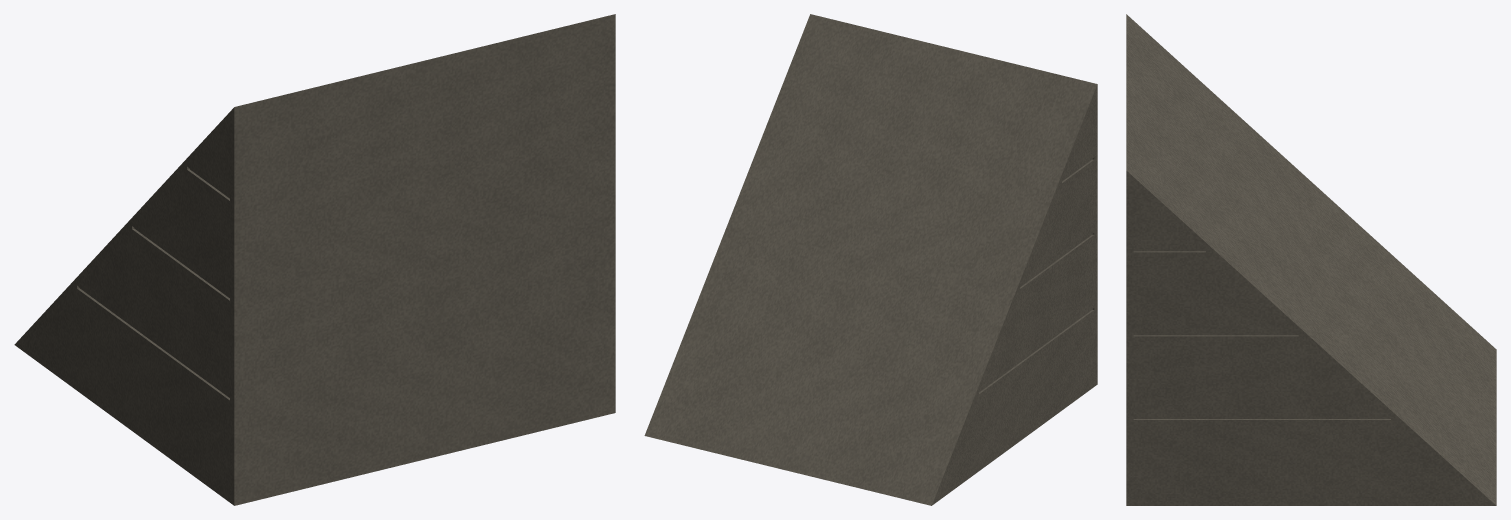
Rendered from roof_wedge.glb.
The picture shows the model from 3 angles, left to right: view 1: azimuth 30°, elevation 25°; view 2: azimuth 150°, elevation 25°; view 3: azimuth 270°, elevation 25°; orthographic projection. The views are drawn at different scales.
Parts seen in each view (by area): view 1: roof_wedge.002; view 2: roof_wedge.002; view 3: roof_wedge.002.
Boxes of the visible parts, <box> form: roof_wedge.002: <box>14,14,615,505</box>; roof_wedge.002: <box>644,14,1097,505</box>; roof_wedge.002: <box>1126,14,1496,505</box>.
Bounding box in the file's own units: 1 × 1 × 1.
Materials: 1 (1 with a texture image).
